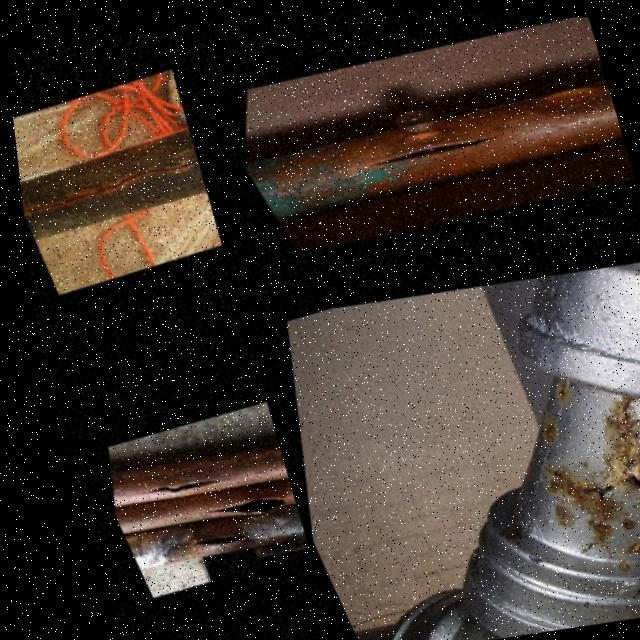crack: (19, 158, 198, 221), (340, 119, 512, 180), (576, 444, 640, 557), (113, 477, 230, 503)
rupture: (178, 493, 279, 519), (174, 533, 240, 551)
